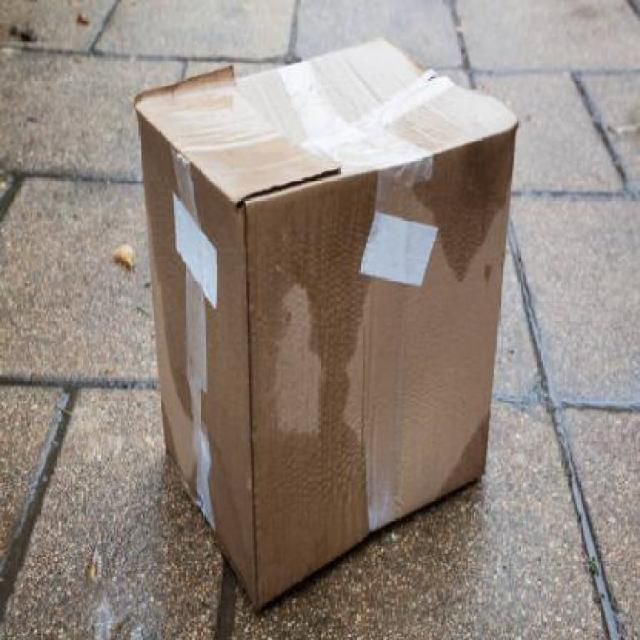box: (145, 31, 510, 612)
